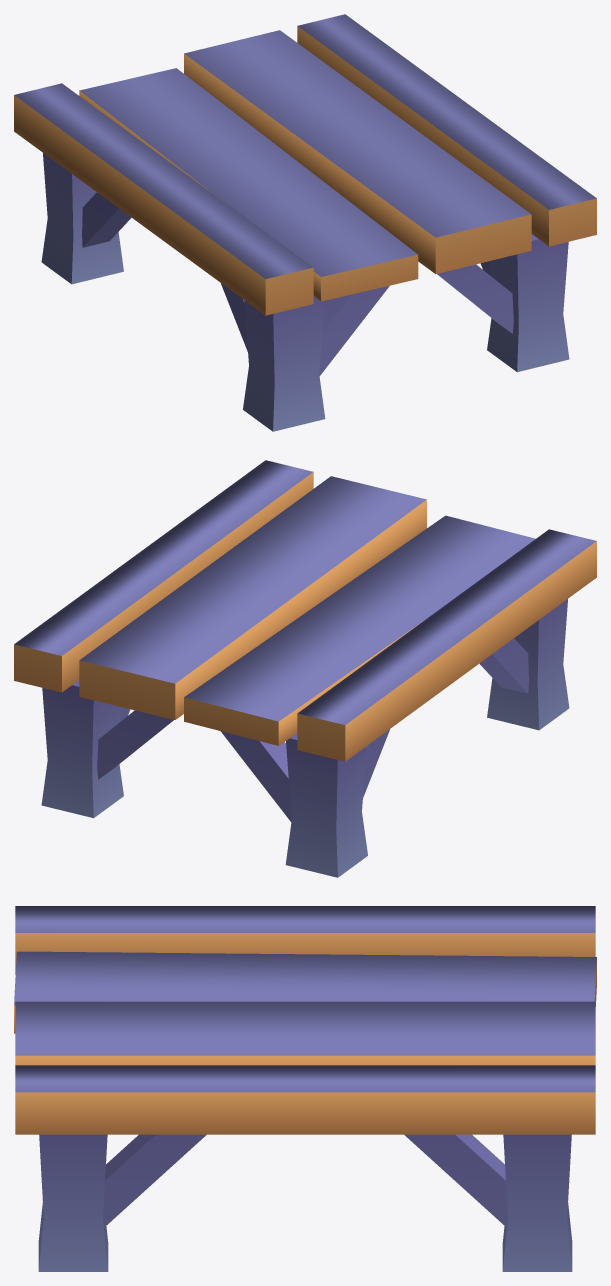
File: structure-platform-small.fbx
3 renders of one model, top to bottom at view 1: azimuth 30°, elevation 25°; view 2: azimuth 150°, elevation 25°; view 3: azimuth 270°, elevation 25°, orthographic. The views are drawn at different scales.
Parts seen in each view (by area): view 1: structure-platform-small; view 2: structure-platform-small; view 3: structure-platform-small.
Part boxes in pixels (left/top/right/bottom): structure-platform-small: left=14, top=14, right=596, bottom=431; structure-platform-small: left=14, top=460, right=596, bottom=877; structure-platform-small: left=14, top=906, right=596, bottom=1271.
Bounding box in the file's own units: 190 × 90 × 251.
